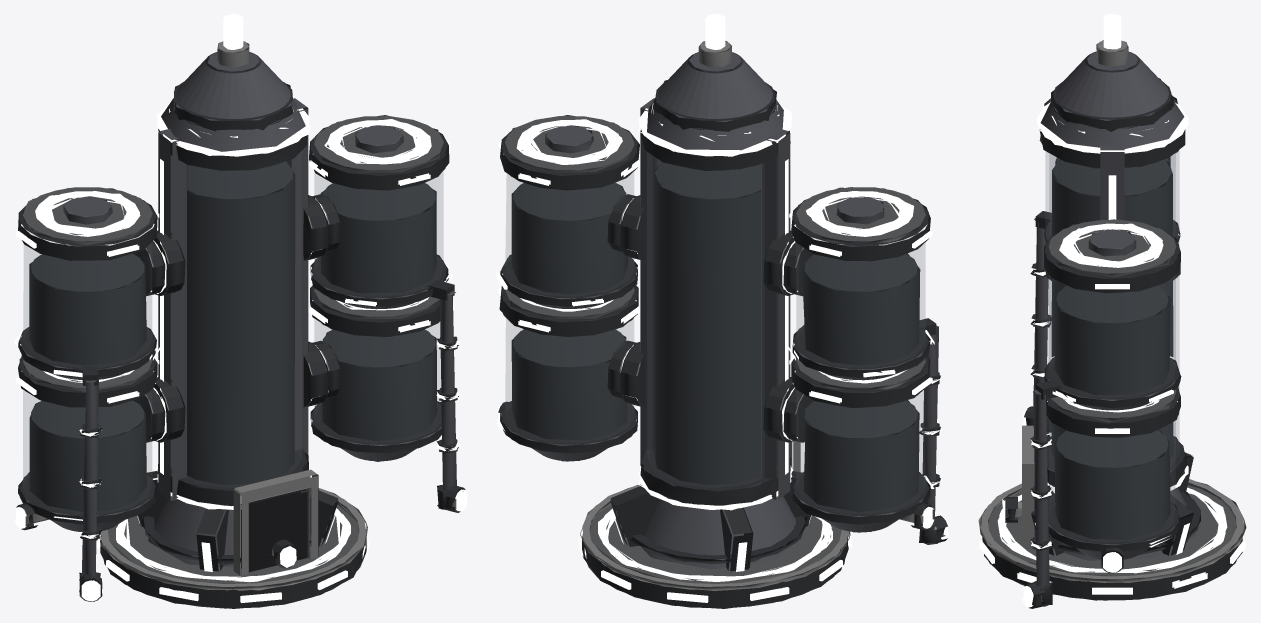
Rendered from Vat_T4.glb.
3 views of the same model, side by side, from view 1: azimuth 30°, elevation 25°; view 2: azimuth 150°, elevation 25°; view 3: azimuth 270°, elevation 25° (orthographic).
Visible parts, largest first — view 1: Vat_T4; view 2: Vat_T4; view 3: Vat_T4.
Boxes of the visible parts, x1=… form: Vat_T4: x1=14, y1=14, x2=467, y2=608; Vat_T4: x1=496, y1=14, x2=949, y2=608; Vat_T4: x1=978, y1=14, x2=1246, y2=608.
Bounding box in the file's own units: 7.65 × 9.21 × 4.2.
